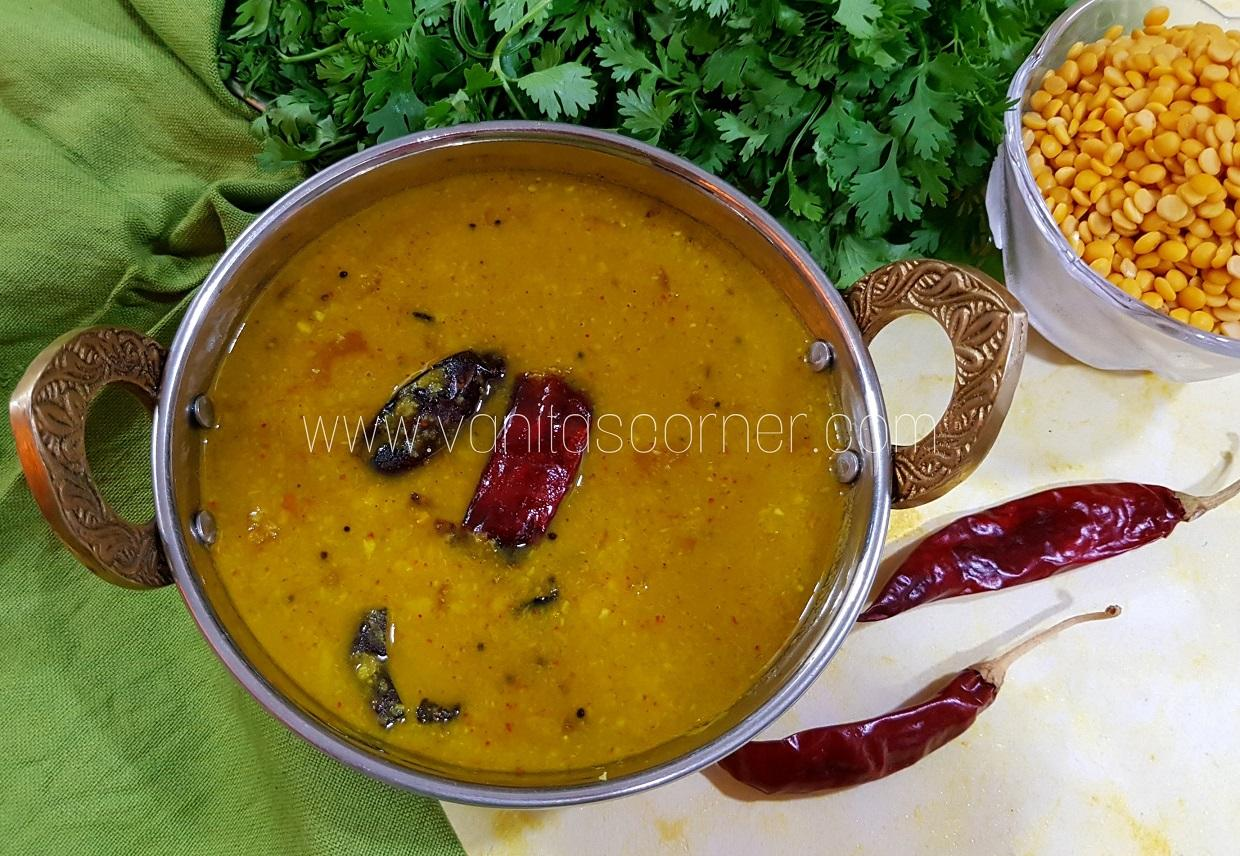varan: (261, 186, 802, 710)
